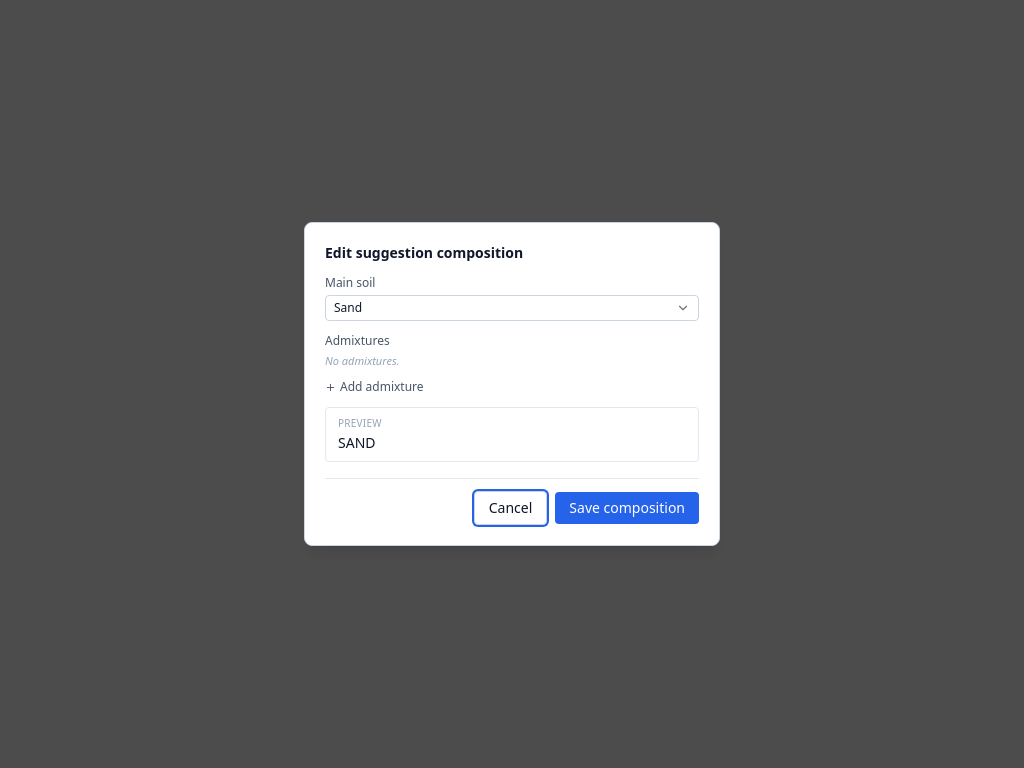
Test: LithoGhostCompositionEditor — the samenstelling dropdown drops on click (owner #35) › the dropdown drops when I click it
Click the button named "Main soil" at point(348, 307), box x1=325 y1=295 x2=699 y2=321
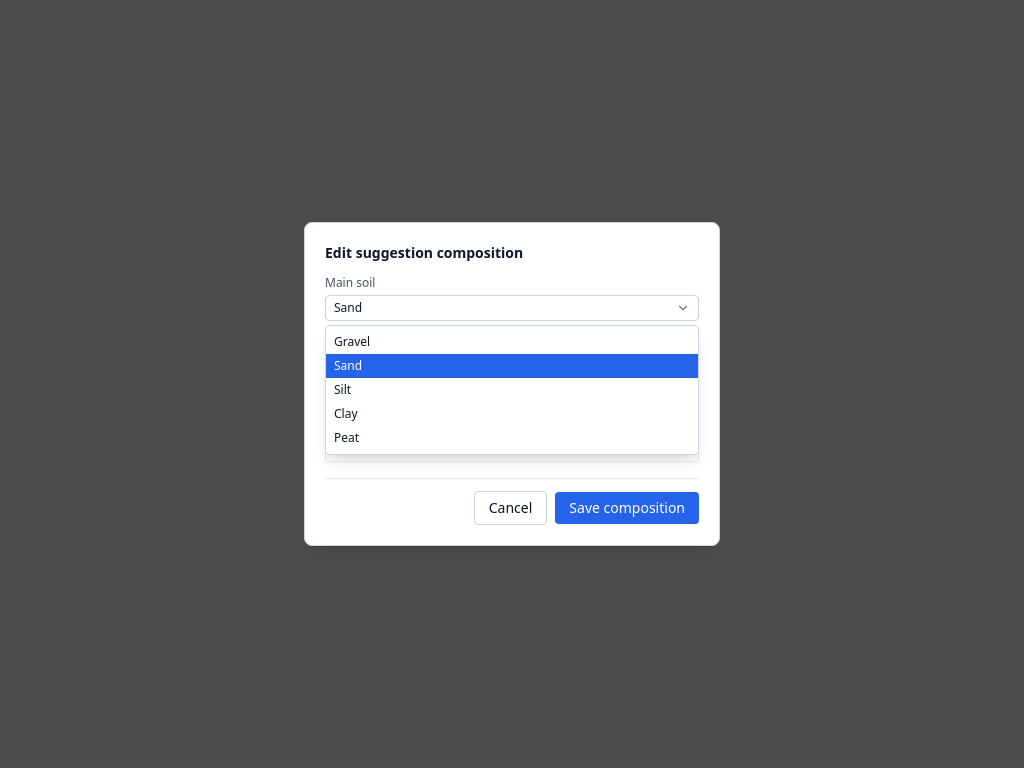
Check: the list is shown, box x1=325 y1=325 x2=699 y2=455
Check: the number of options is 5, box x1=334 y1=333 x2=370 y2=350; x1=326 y1=354 x2=698 y2=378; x1=334 y1=381 x2=351 y2=398; x1=334 y1=405 x2=358 y2=422; x1=334 y1=429 x2=359 y2=446
